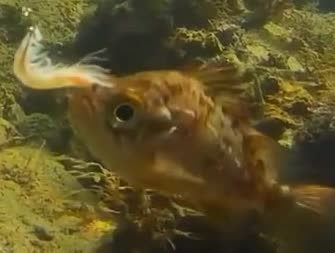mebaru: (68, 65, 331, 240)
